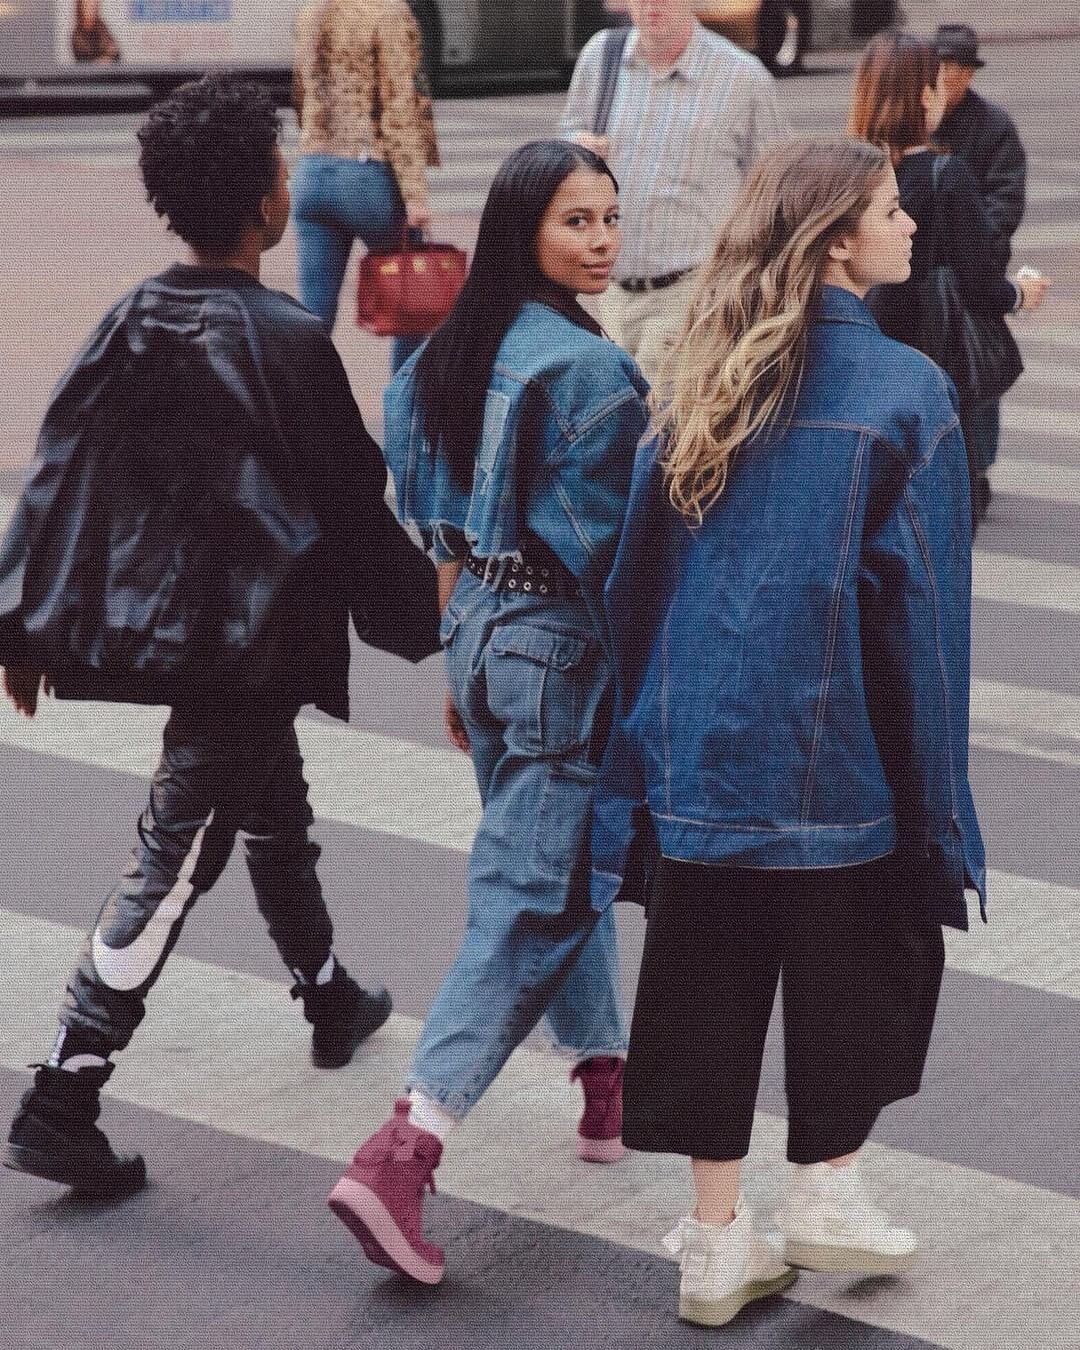Person: (4, 74, 444, 1197), (627, 134, 993, 1328), (323, 136, 647, 1278)
